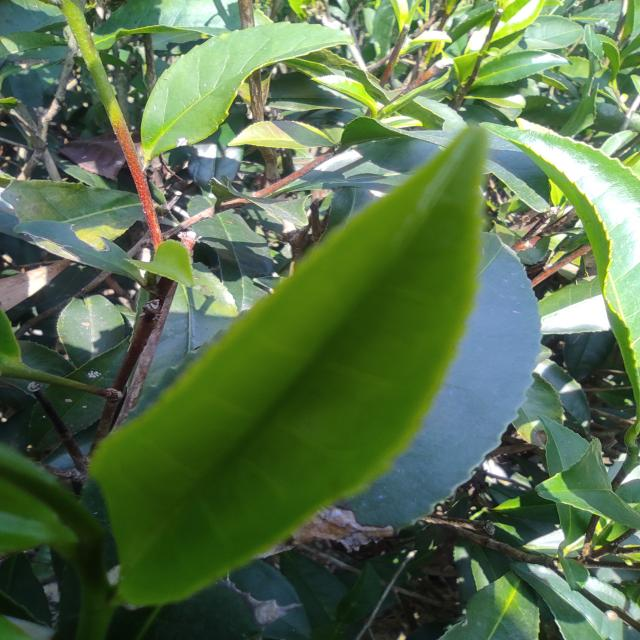Category C(4-7 days): (76, 108, 550, 612)
